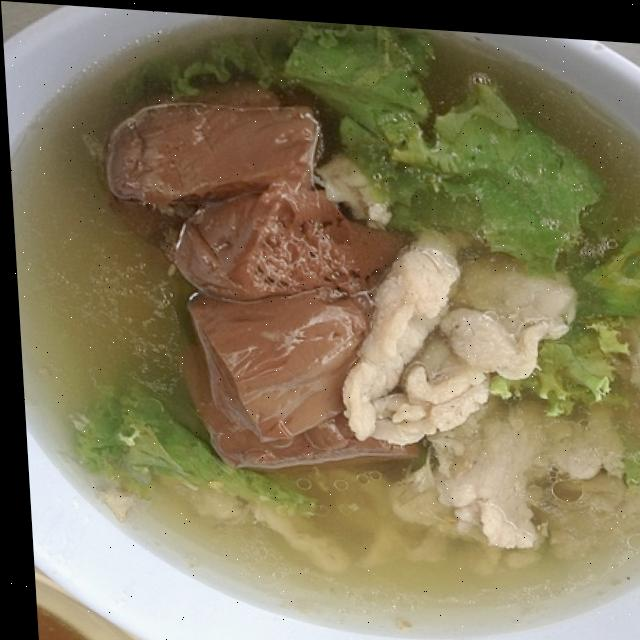猪肉菜式: (55, 28, 640, 618)
